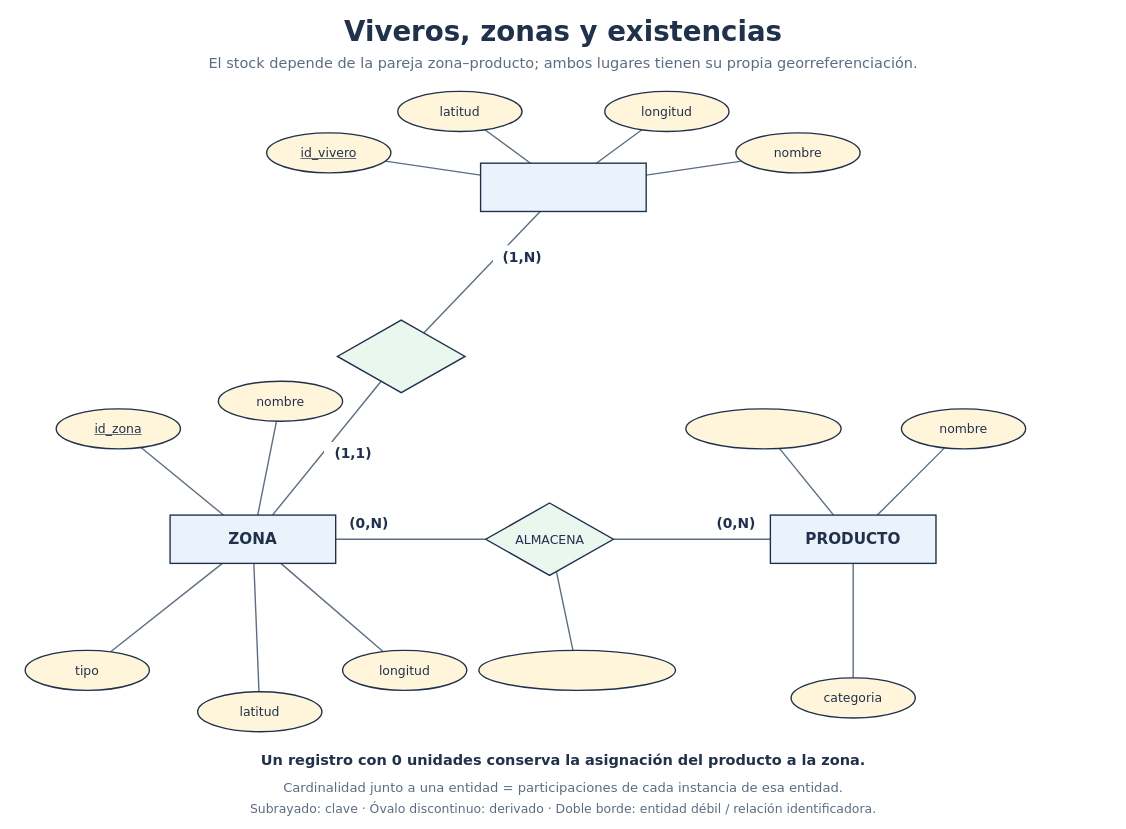
The diagram is 1126 pixels wide and 829 high, and some of its shapes have lost their labels. Here are the shapes that lost their labels. From the top down, the box of each, then its label:
(480, 162, 647, 212): VIVERO
(336, 319, 465, 393): DISPONE
(685, 408, 841, 449): id_producto
(478, 649, 676, 691): unidades_disponibles
